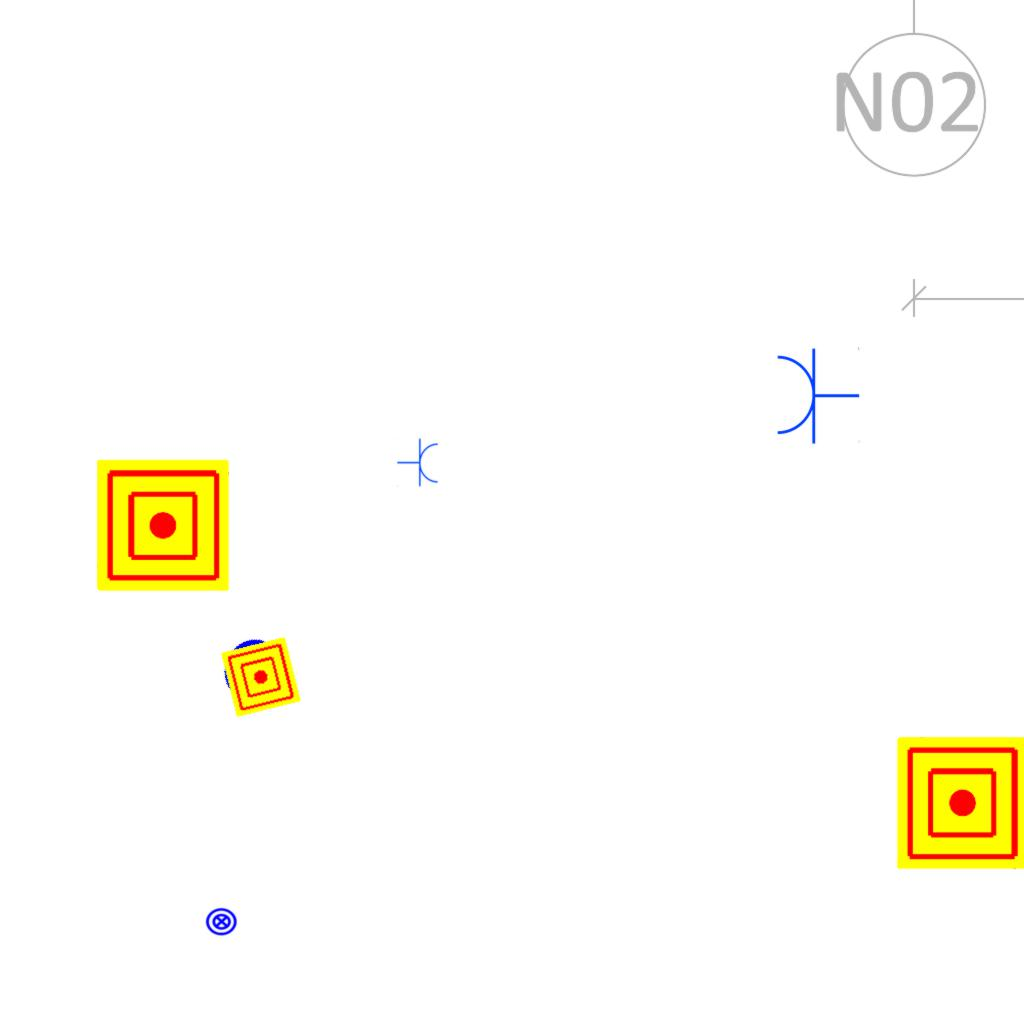NAM-Nichtautomatischer_Melder: (97, 459, 229, 591), (897, 737, 1024, 869), (220, 636, 302, 718)
Schukosteckdose_einfach: (773, 345, 860, 445), (397, 438, 440, 488)
Taster_beleuchtet: (208, 625, 296, 713), (205, 905, 238, 938)
